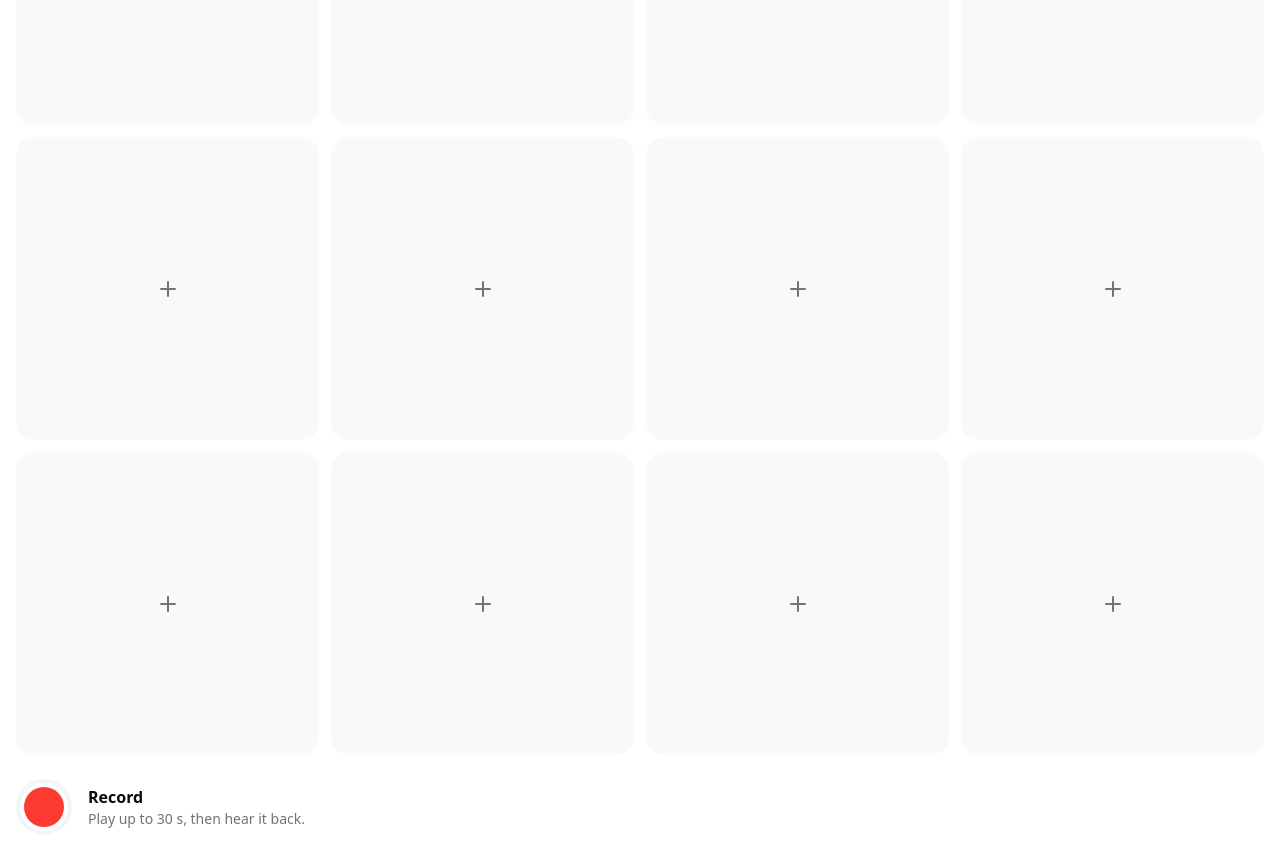
Test: a take on the Sound Pad › stopped by hiding the page › never plays when the page hides while it’s made
(page scrolled)
Click the button named "Record" at (44, 807), box [16,779,72,835]
(page scrolled)
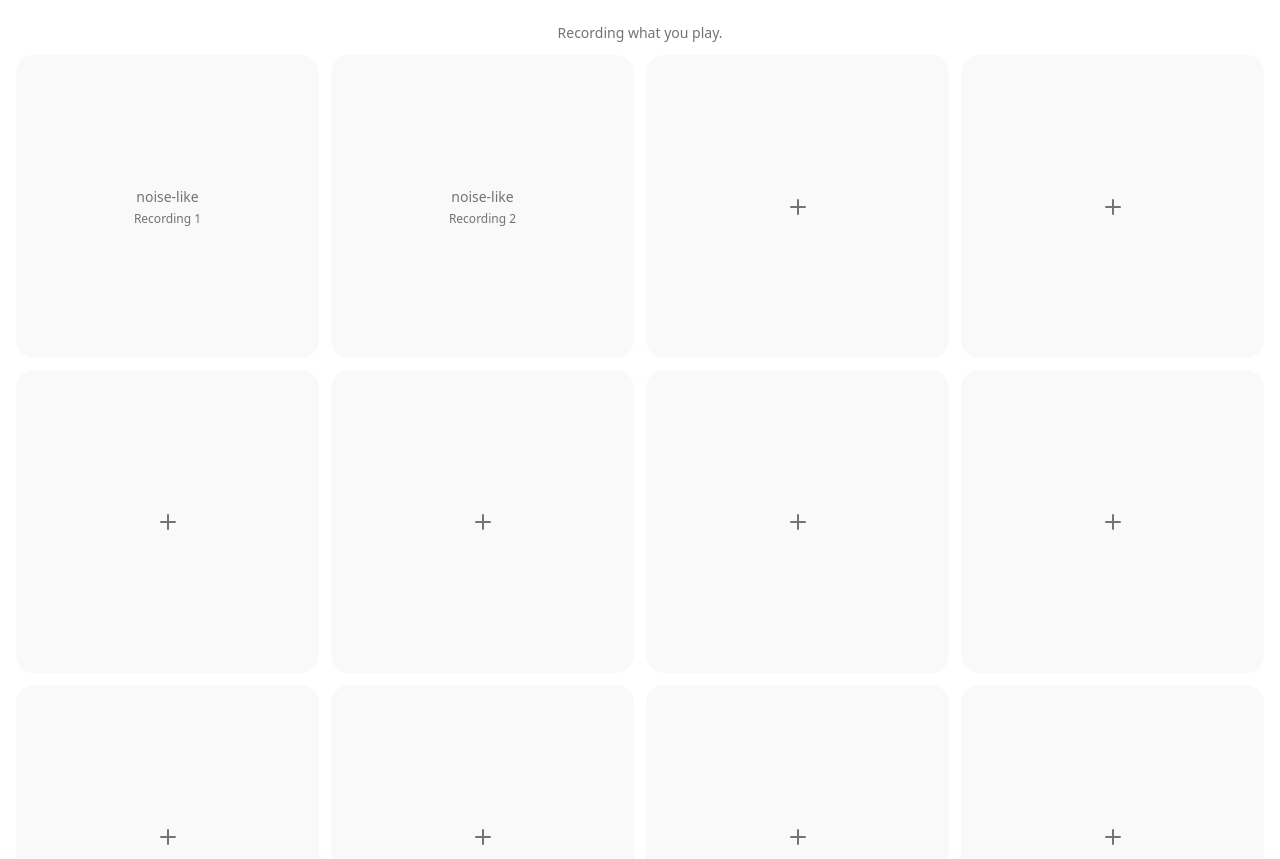
Press the mouse on the button "noise-like Recording 1" at (168, 206), box [16,55,319,358]
(page scrolled)
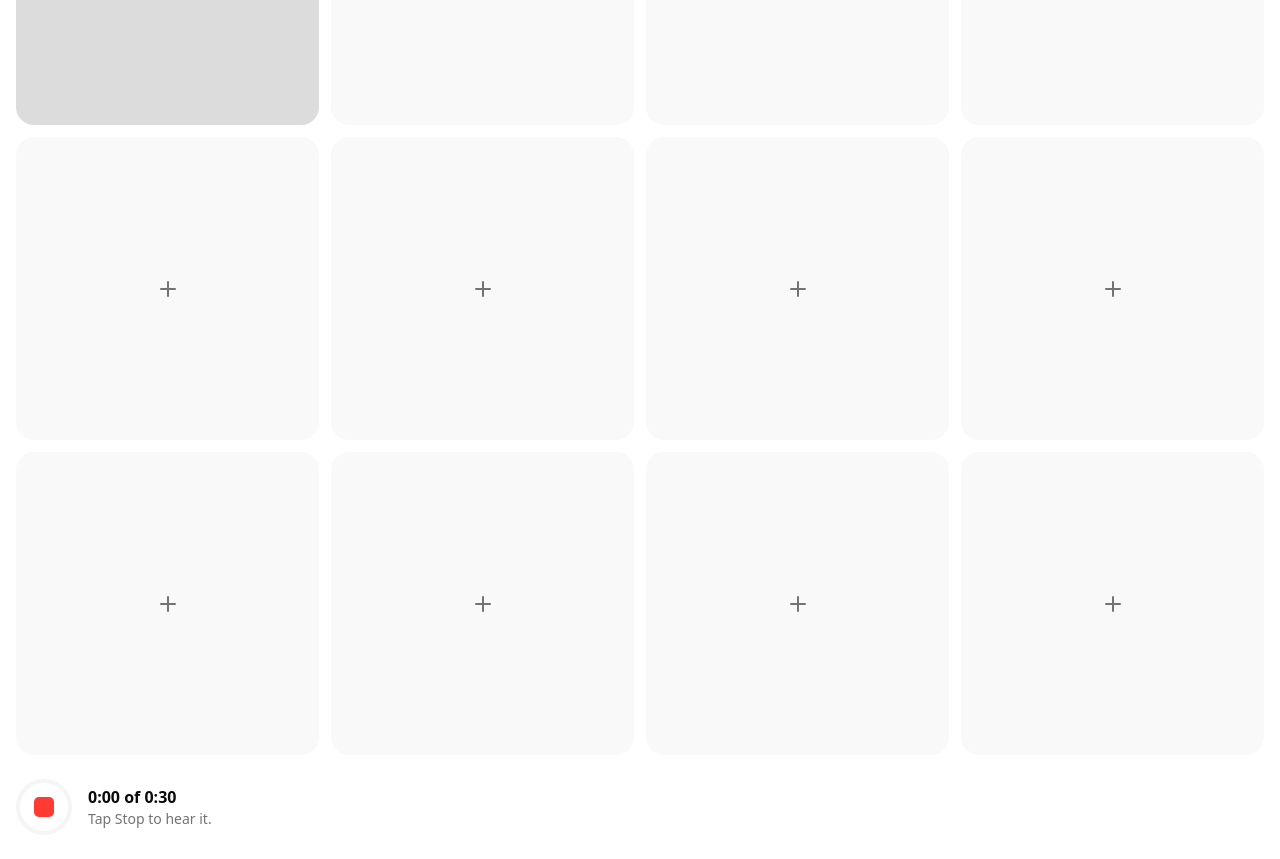
Click the button named "Stop recording" at (44, 807), box [16,779,72,835]
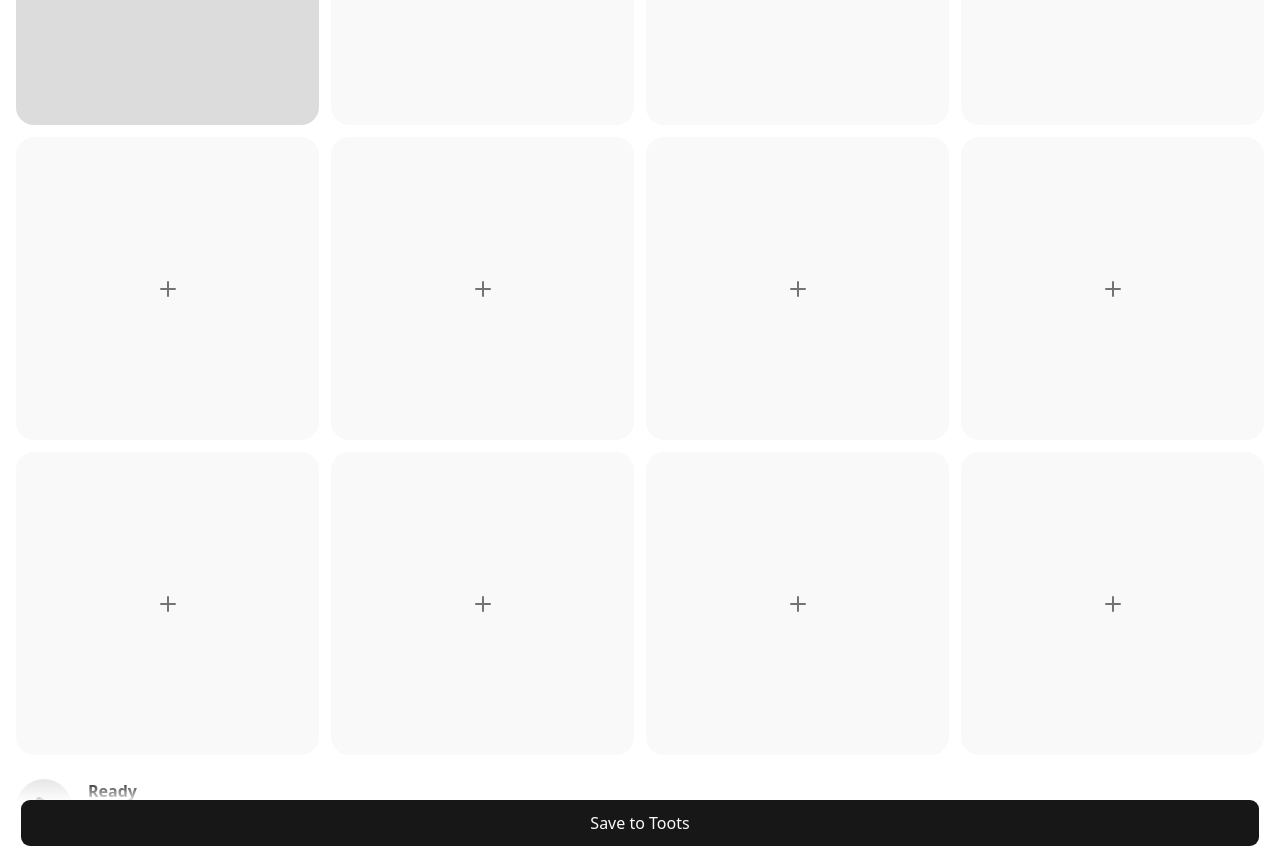
Check: the text "Ready" is shown, box [88,780,137,802]
